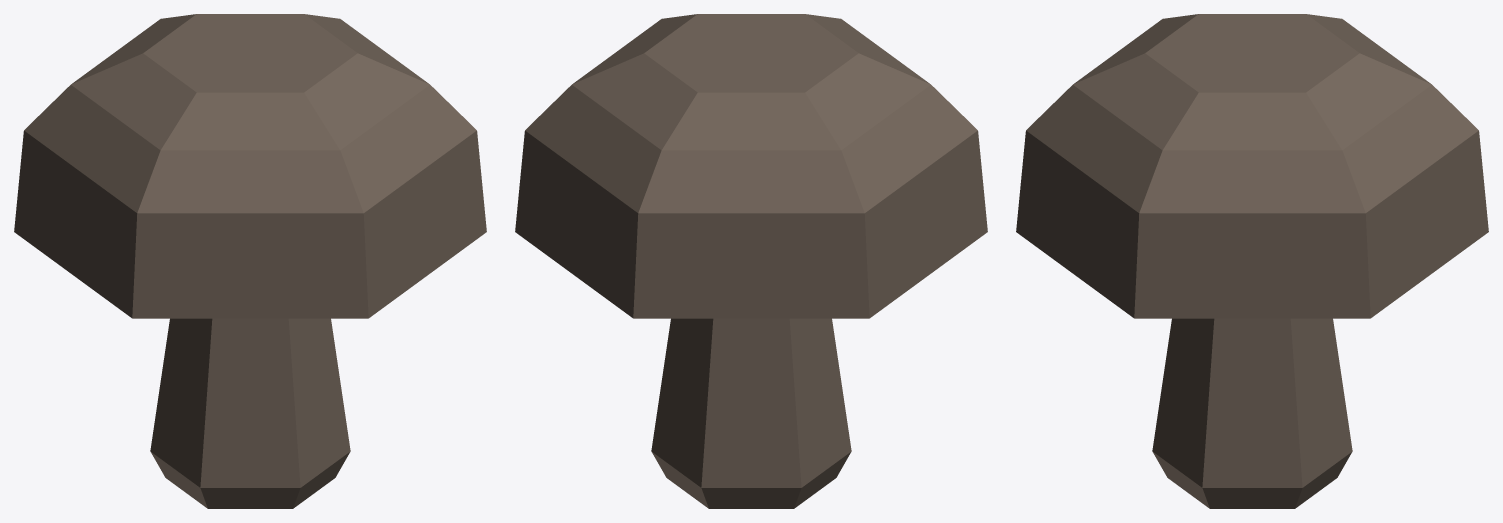
The model's file is mushroom.glb.
The picture shows the model from 3 angles, left to right: view 1: azimuth 30°, elevation 25°; view 2: azimuth 150°, elevation 25°; view 3: azimuth 270°, elevation 25°; orthographic projection.
Parts seen in each view (by area): view 1: mushroom; view 2: mushroom; view 3: mushroom.
Boxes of the visible parts, x1,y1,x2,y2 form: mushroom: (14,14,486,508); mushroom: (515,14,987,508); mushroom: (1016,14,1488,508).
Size of the model in its own units: 0.1049 by 0.12 by 0.1211.
